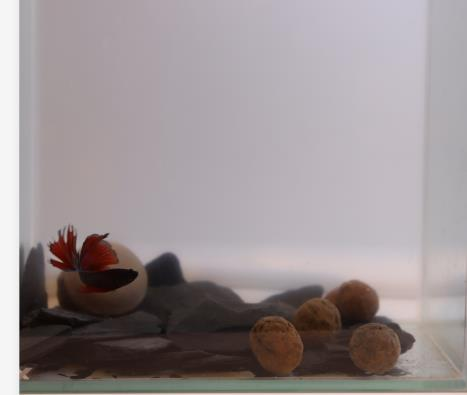fish: (49, 225, 140, 295)
